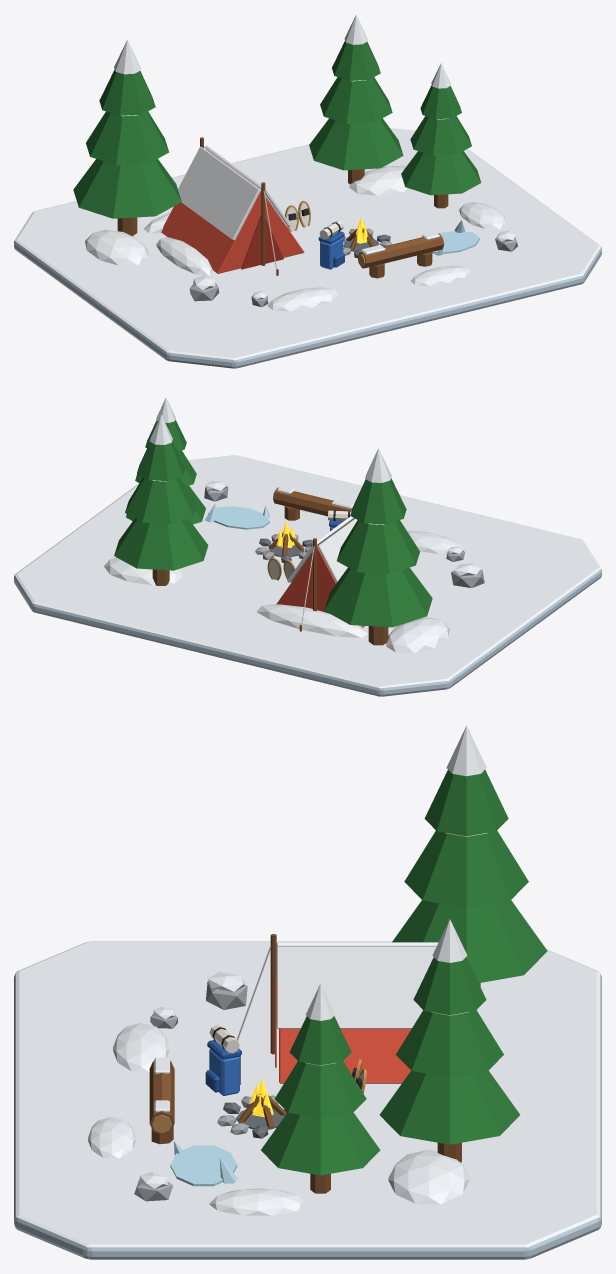
File: winter-campsite.glb
3 views of the same model, one above another, from view 1: azimuth 30°, elevation 25°; view 2: azimuth 150°, elevation 25°; view 3: azimuth 270°, elevation 25° (orthographic). The views are drawn at different scales.
Parts seen in each view (by area): view 1: SnowGround, PineTier, Tent, TentSnow, PineTier.003, PineTier.001, PineTier.006, PineTier.004, PineTier.002, PineTier.007, SnowDrift.002, PineTier.005 (+12 smaller); view 2: SnowGround, PineTier, PineTier.003, PineTier.001, PineTier.004, SnowDrift, PineTier.002, Tent, SnowDrift.002, PineTier.005, BenchLog, FrozenPuddle (+8 smaller); view 3: SnowGround, TentSnow.001, PineTier.003, PineTier, PineTier.001, PineTier.006, PineTier.004, PineTier.002, PineTier.007, Tent, SnowDrift.003, PineTier.005 (+11 smaller).
Part boxes in pixels (x1,y1,x2,y2): SnowGround: (14, 128, 601, 368); PineTier: (73, 159, 181, 218); Tent: (161, 150, 304, 273); TentSnow: (178, 146, 260, 240); PineTier.003: (309, 118, 403, 170); PineTier.001: (86, 111, 169, 165); PineTier.006: (401, 151, 481, 195); PineTier.004: (320, 77, 392, 123); PineTier.002: (99, 69, 155, 115); PineTier.007: (410, 116, 471, 155); SnowDrift.002: (85, 230, 148, 265); PineTier.005: (332, 41, 380, 80); SnowGround: (14, 455, 601, 696); PineTier: (324, 567, 432, 627); PineTier.003: (114, 518, 208, 570); PineTier.001: (337, 520, 419, 573); PineTier.004: (125, 477, 197, 524); SnowDrift: (256, 604, 367, 637); PineTier.002: (350, 478, 406, 524); Tent: (276, 519, 364, 627); SnowDrift.002: (386, 617, 449, 653); PineTier.005: (137, 441, 185, 481); BenchLog: (273, 487, 352, 516); FrozenPuddle: (208, 506, 269, 529); SnowGround: (14, 941, 601, 1259); TentSnow.001: (276, 946, 436, 1028); PineTier.003: (379, 1070, 519, 1144); PineTier: (392, 900, 547, 982); PineTier.001: (404, 830, 528, 907); PineTier.006: (261, 1112, 380, 1175); PineTier.004: (396, 1010, 503, 1077); PineTier.002: (424, 769, 508, 836); PineTier.007: (274, 1061, 366, 1118); Tent: (279, 1029, 411, 1083); SnowDrift.003: (388, 1149, 469, 1204); PineTier.005: (413, 957, 486, 1015).
Size of the model in its own units: 34.83 by 15.57 by 28.19.
